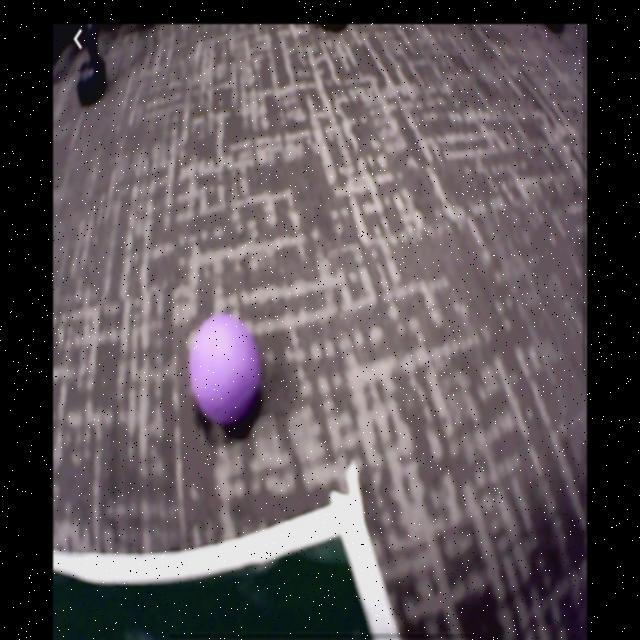ball: (193, 318, 261, 419)
